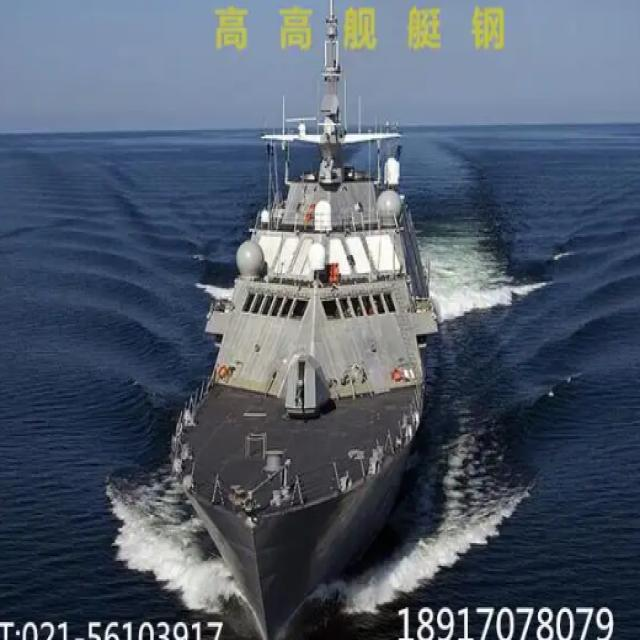navalvessels: (170, 18, 437, 623)
